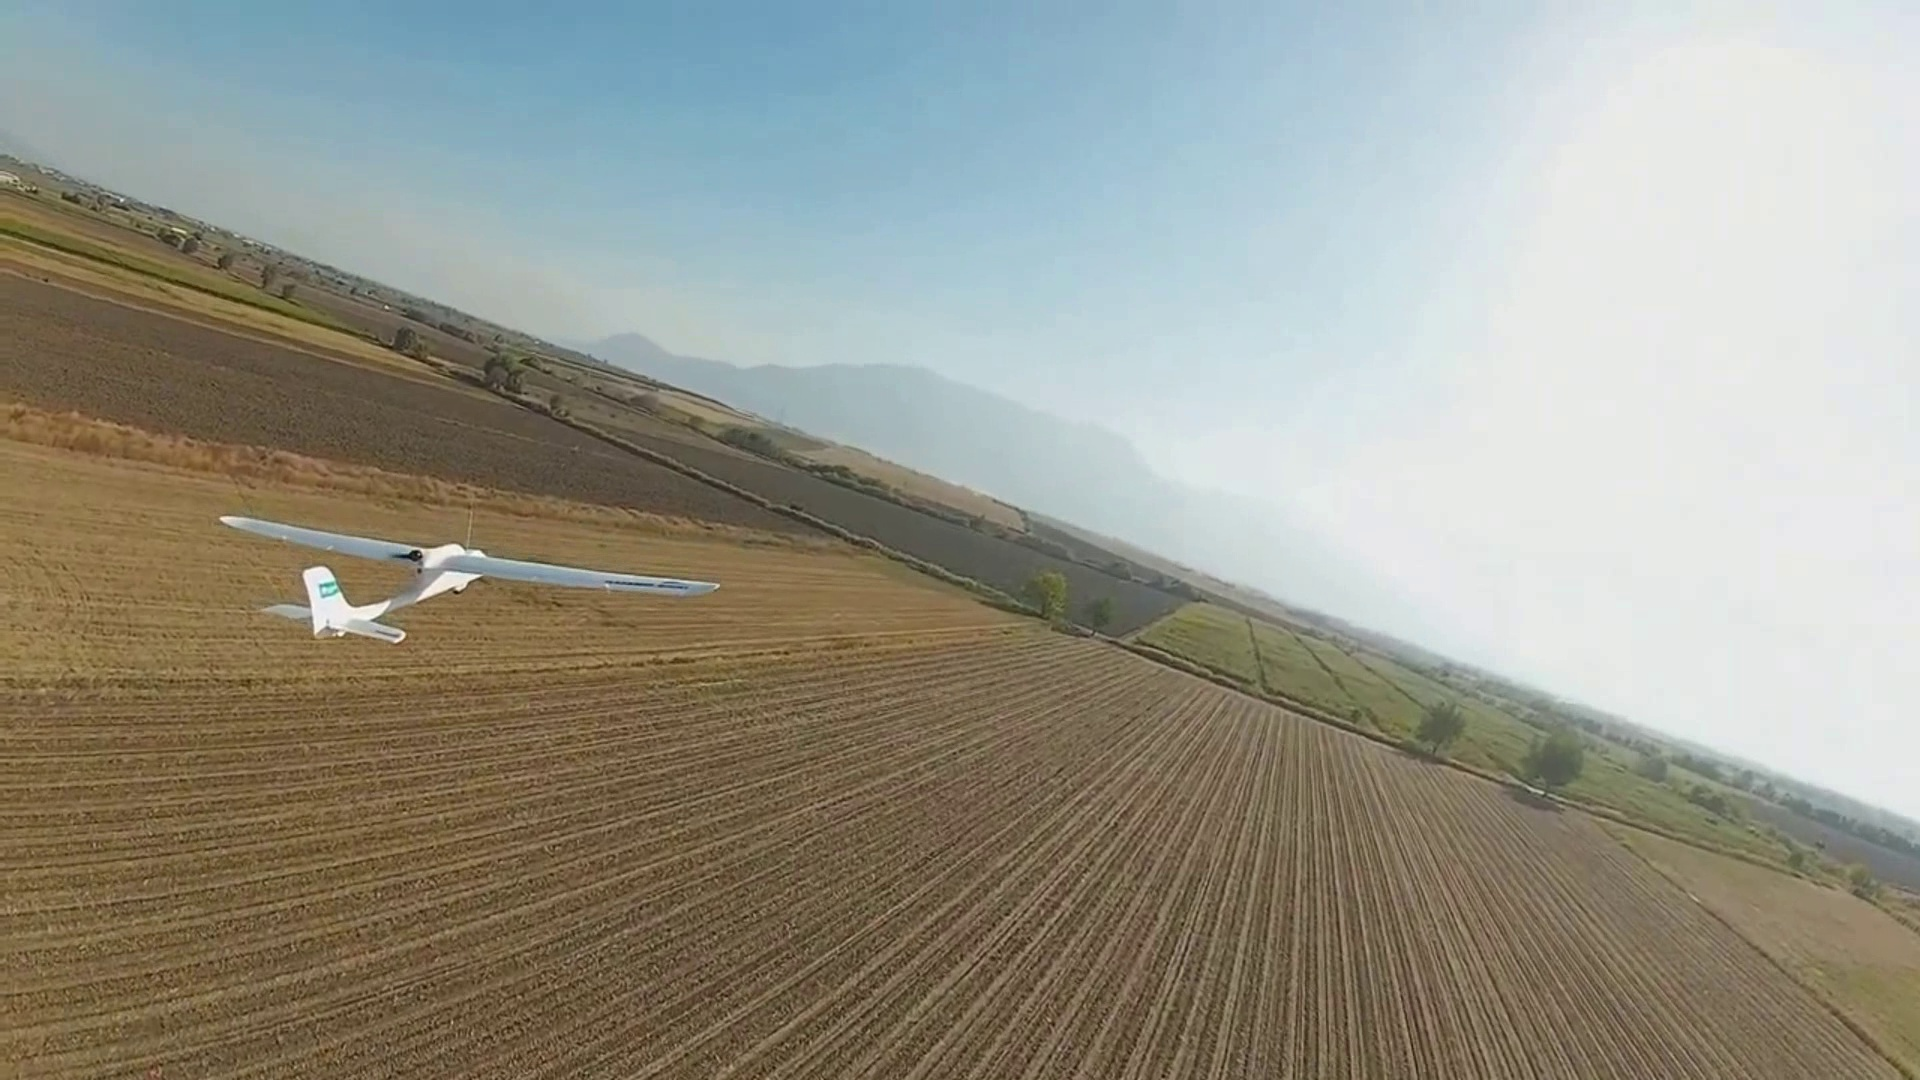airplane: (34, 211, 1920, 873), (218, 512, 724, 645)
